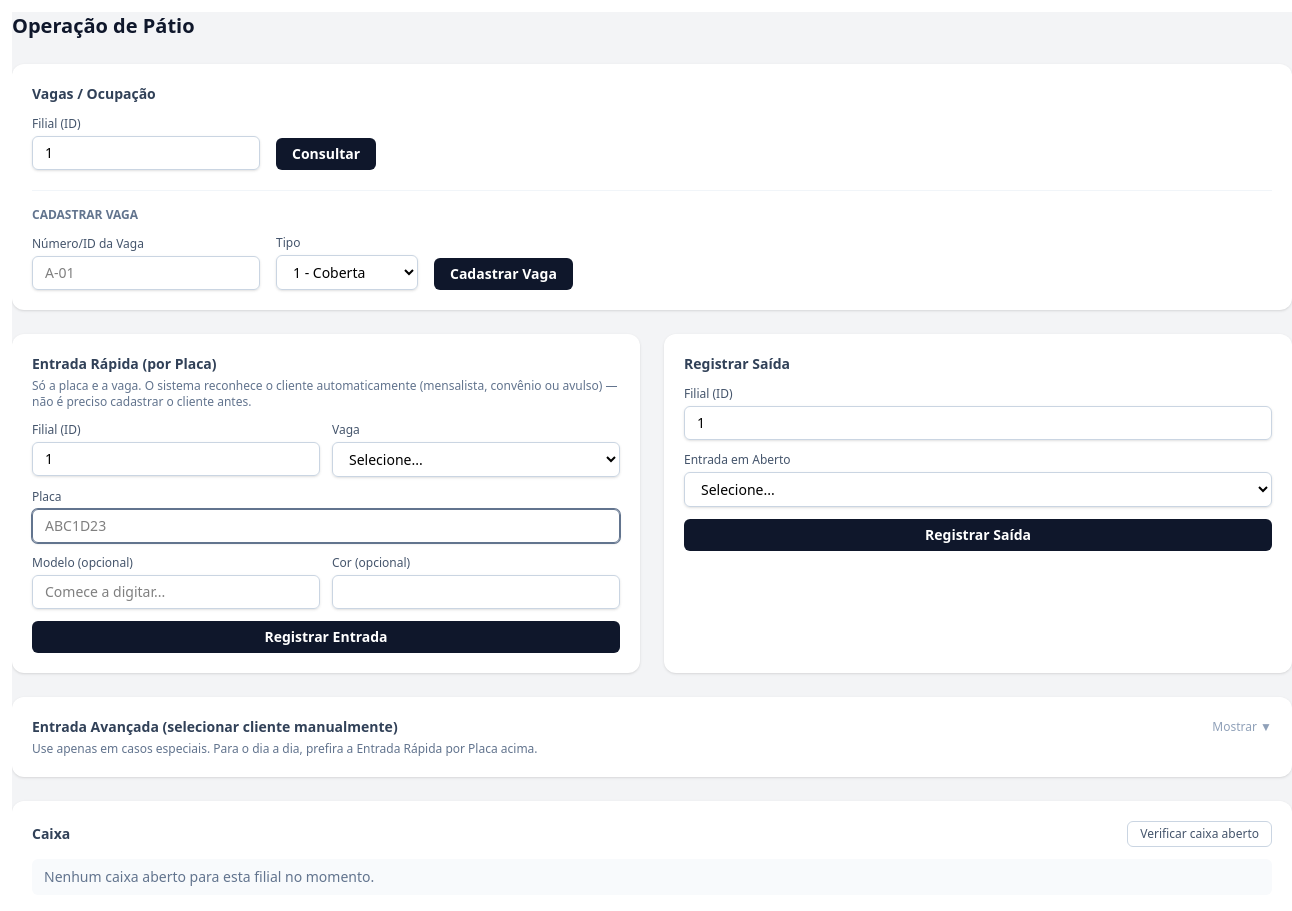
Scenario: ParkingOperationsPage — Quick Entry by Plate › requires both plate and parking space before submitting
Click the button "Registrar Entrada" at coordinates (326, 637), box [32, 621, 620, 653]
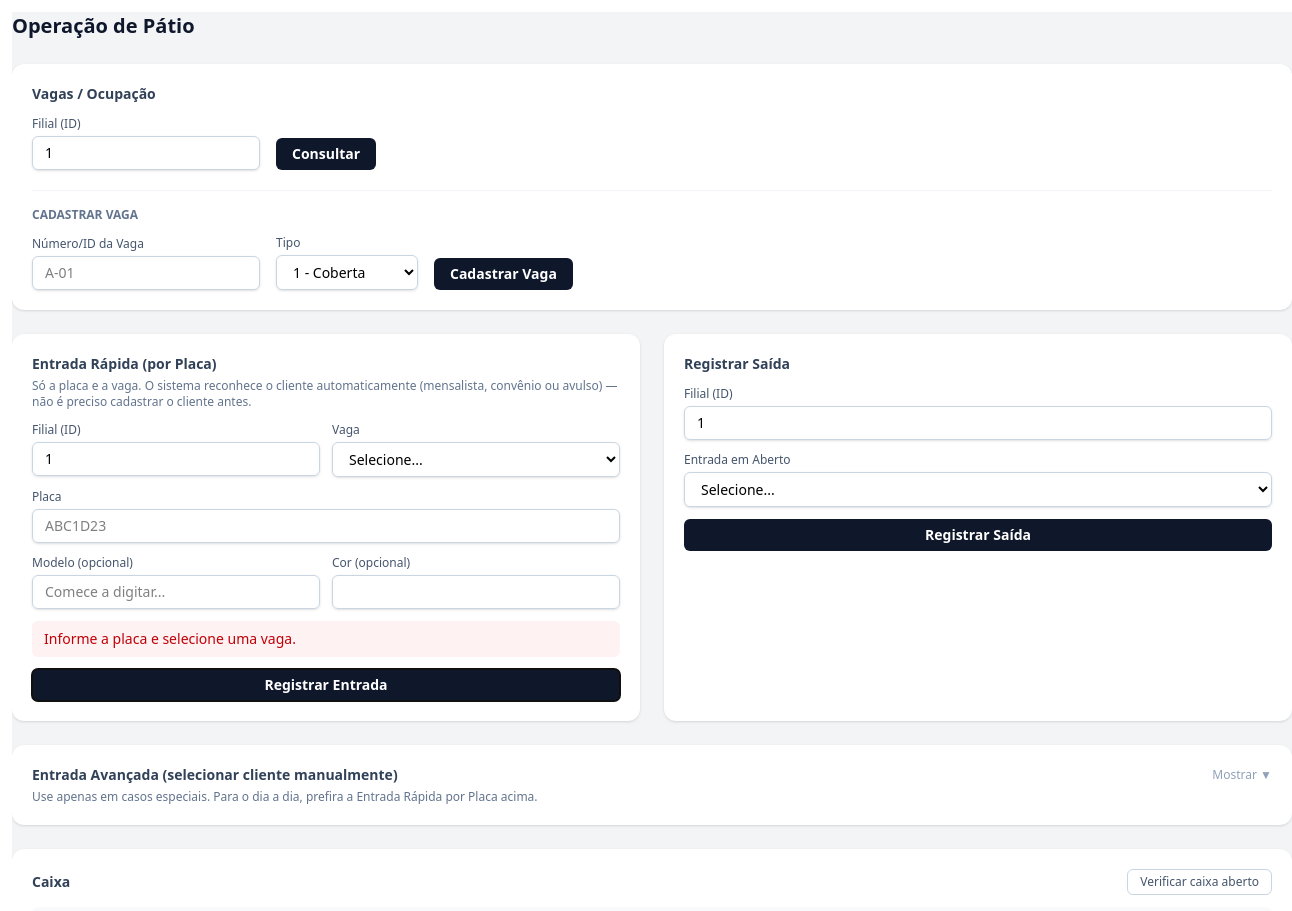
Now the text "Informe a placa e selecione uma vaga." is shown, box [32, 621, 620, 657]
